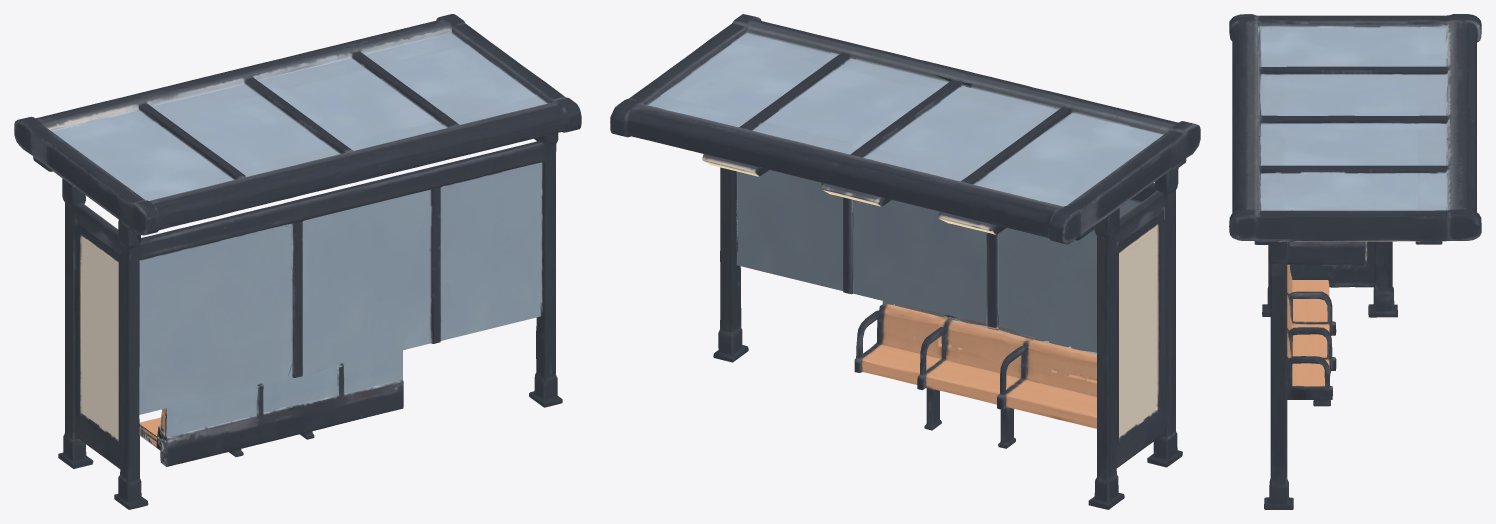
Rendered from tram_shelter.glb.
3 renders of one model, left to right at view 1: azimuth 30°, elevation 25°; view 2: azimuth 150°, elevation 25°; view 3: azimuth 270°, elevation 25°, orthographic. The views are drawn at different scales.
Visible parts, largest first — view 1: shelter; view 2: shelter; view 3: shelter.
Part boxes in pixels (x1,y1,x2,y2): shelter: [14, 14, 581, 509]; shelter: [610, 14, 1200, 509]; shelter: [1229, 14, 1481, 509].
Bounding box in the file's own units: 4.34 × 2.97 × 2.29.
Materials: 2 (2 with a texture image).
